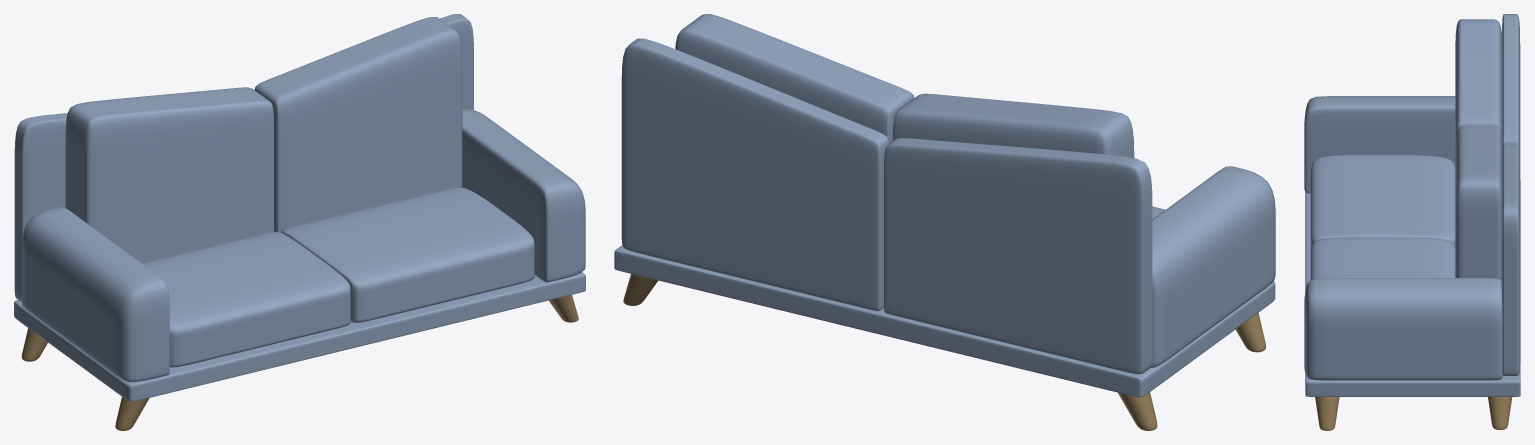
Rendered from MM_SofaGrande.fbx.
3 renders of one model, left to right at view 1: azimuth 30°, elevation 25°; view 2: azimuth 150°, elevation 25°; view 3: azimuth 270°, elevation 25°, orthographic. The views are drawn at different scales.
Parts seen in each view (by area): view 1: Sillon_pCube1; view 2: Sillon_pCube1; view 3: Sillon_pCube1.
Part boxes in pixels (x1,y1,x2,y2): Sillon_pCube1: (14,14,585,430); Sillon_pCube1: (614,14,1275,430); Sillon_pCube1: (1304,14,1520,430).
Bounding box in the file's own units: 25.92 × 13.16 × 11.37.
